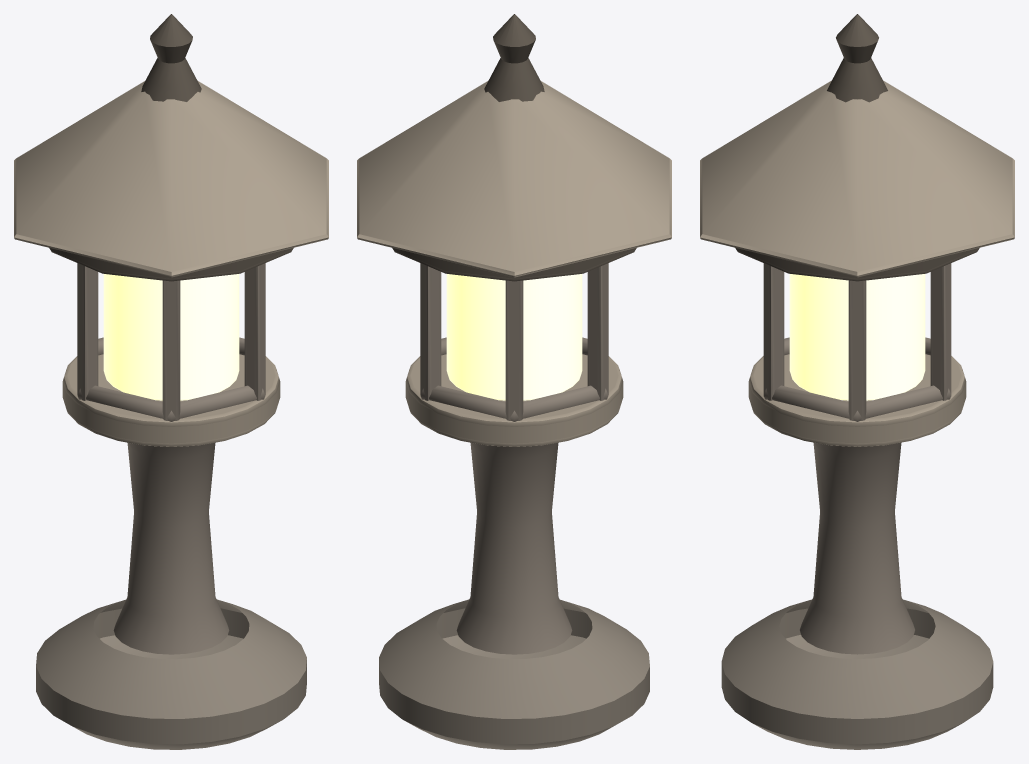
The model's file is stone_lantern.glb.
3 views of the same model, side by side, from view 1: azimuth 30°, elevation 25°; view 2: azimuth 150°, elevation 25°; view 3: azimuth 270°, elevation 25° (orthographic).
Parts seen in each view (by area): view 1: stone_lantern; view 2: stone_lantern; view 3: stone_lantern.
Boxes of the visible parts, <box> form: stone_lantern: <box>14,14,328,749</box>; stone_lantern: <box>357,14,671,749</box>; stone_lantern: <box>700,14,1014,749</box>.
Bounding box in the file's own units: 0.4174 × 0.87 × 0.3614.
